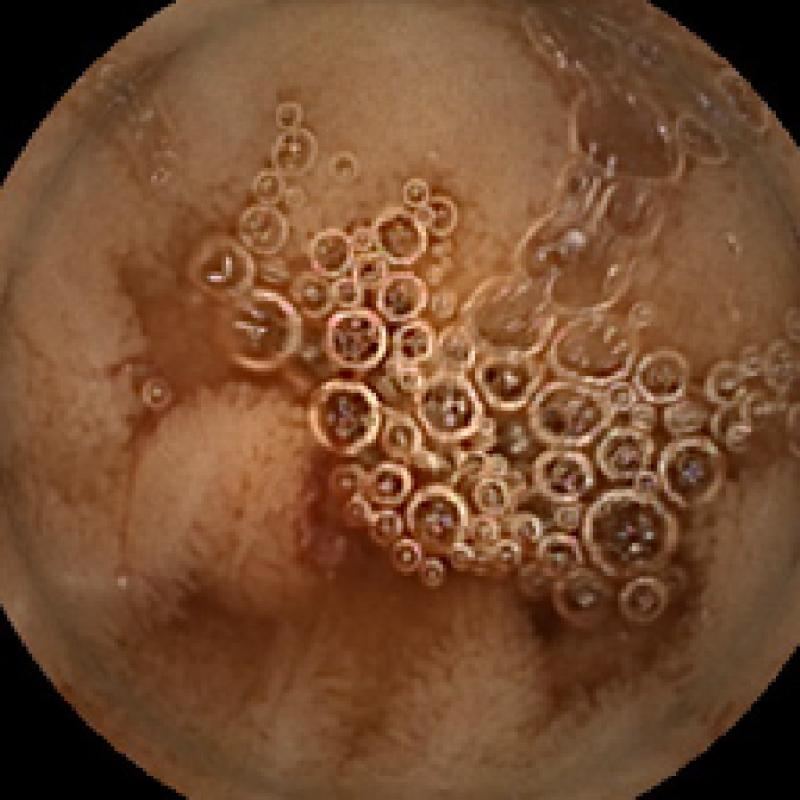bleeding: (293, 404, 428, 564)
